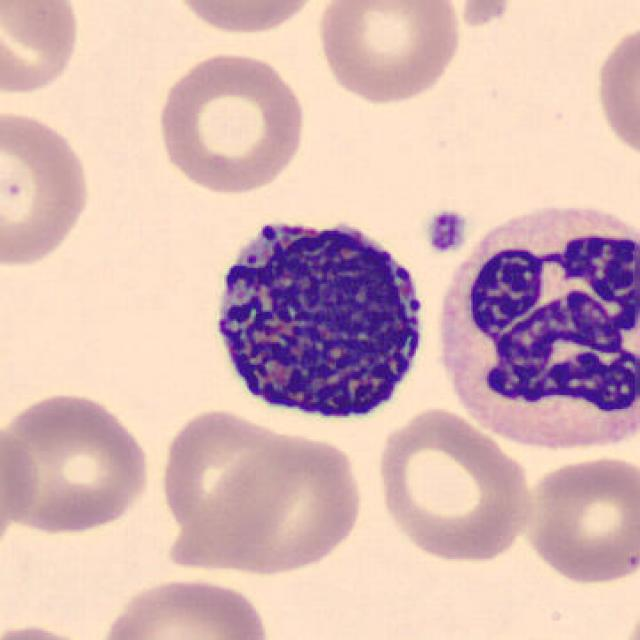Basophil: (199, 201, 439, 432)
Neutrophil: (426, 188, 640, 463)
Platelets: (421, 206, 471, 258)
RBC: (372, 404, 538, 566), (196, 426, 368, 576), (155, 403, 304, 568), (151, 46, 309, 197), (1, 388, 154, 538), (518, 451, 638, 589), (313, 0, 466, 108), (0, 102, 96, 272), (92, 573, 276, 640), (0, 0, 84, 99), (590, 18, 640, 164), (163, 0, 329, 39), (0, 409, 41, 555), (0, 619, 110, 640), (615, 601, 638, 640)
